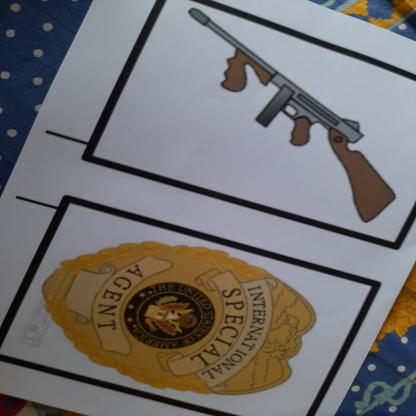Bootlegger: (186, 1, 407, 226)
G-man: (17, 234, 335, 398)
